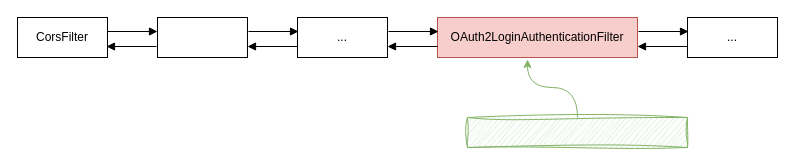
This 795x165 diagram has some shape labels left out. The shapes that lost their labels are listed below. From the top down, each one's centre as x and y in pixels, then its label:
(202,37): CsrfFilter
(577,132): 요청을 채로채서 OAuth 2 인증 논리 적용
